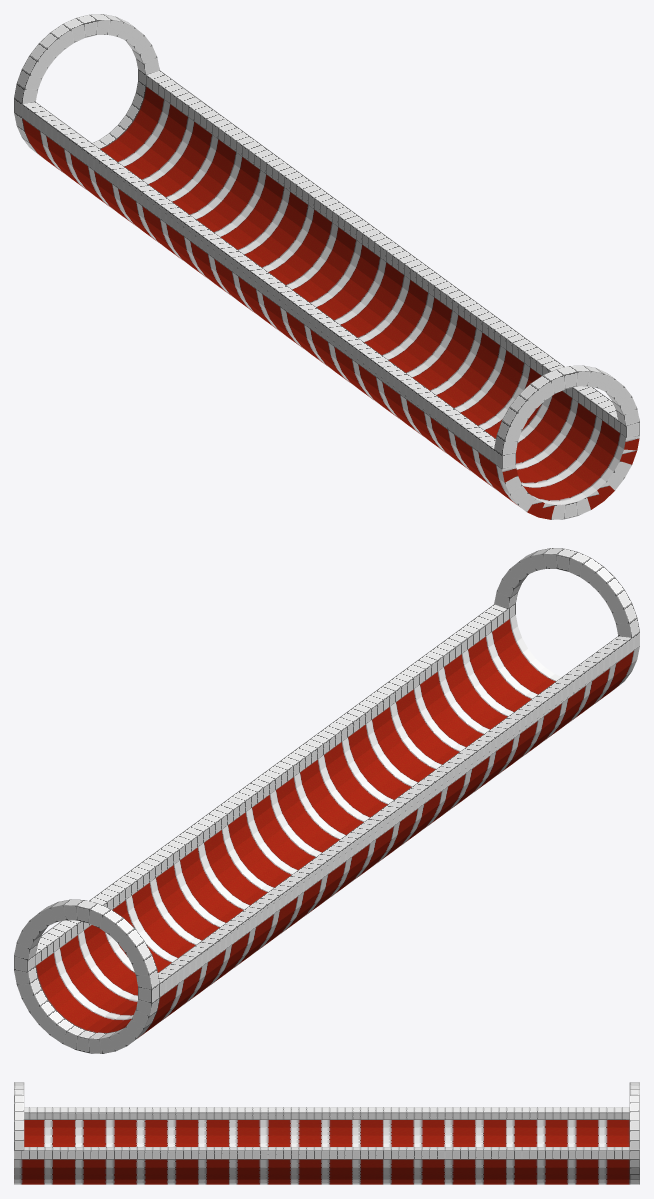
File: pipe4.dae
The picture shows the model from 3 angles, top to bottom: view 1: azimuth 30°, elevation 25°; view 2: azimuth 150°, elevation 25°; view 3: azimuth 270°, elevation 25°; orthographic projection. The views are drawn at different scales.
Visible parts, largest first — view 1: pipe4; view 2: pipe4; view 3: pipe4.
Boxes of the visible parts, x1,y1,x2,y2 form: pipe4: (14,14,639,519); pipe4: (14,548,639,1053); pipe4: (14,1082,639,1184).
Size of the model in its own units: 4.98 by 30.5 by 4.98.
